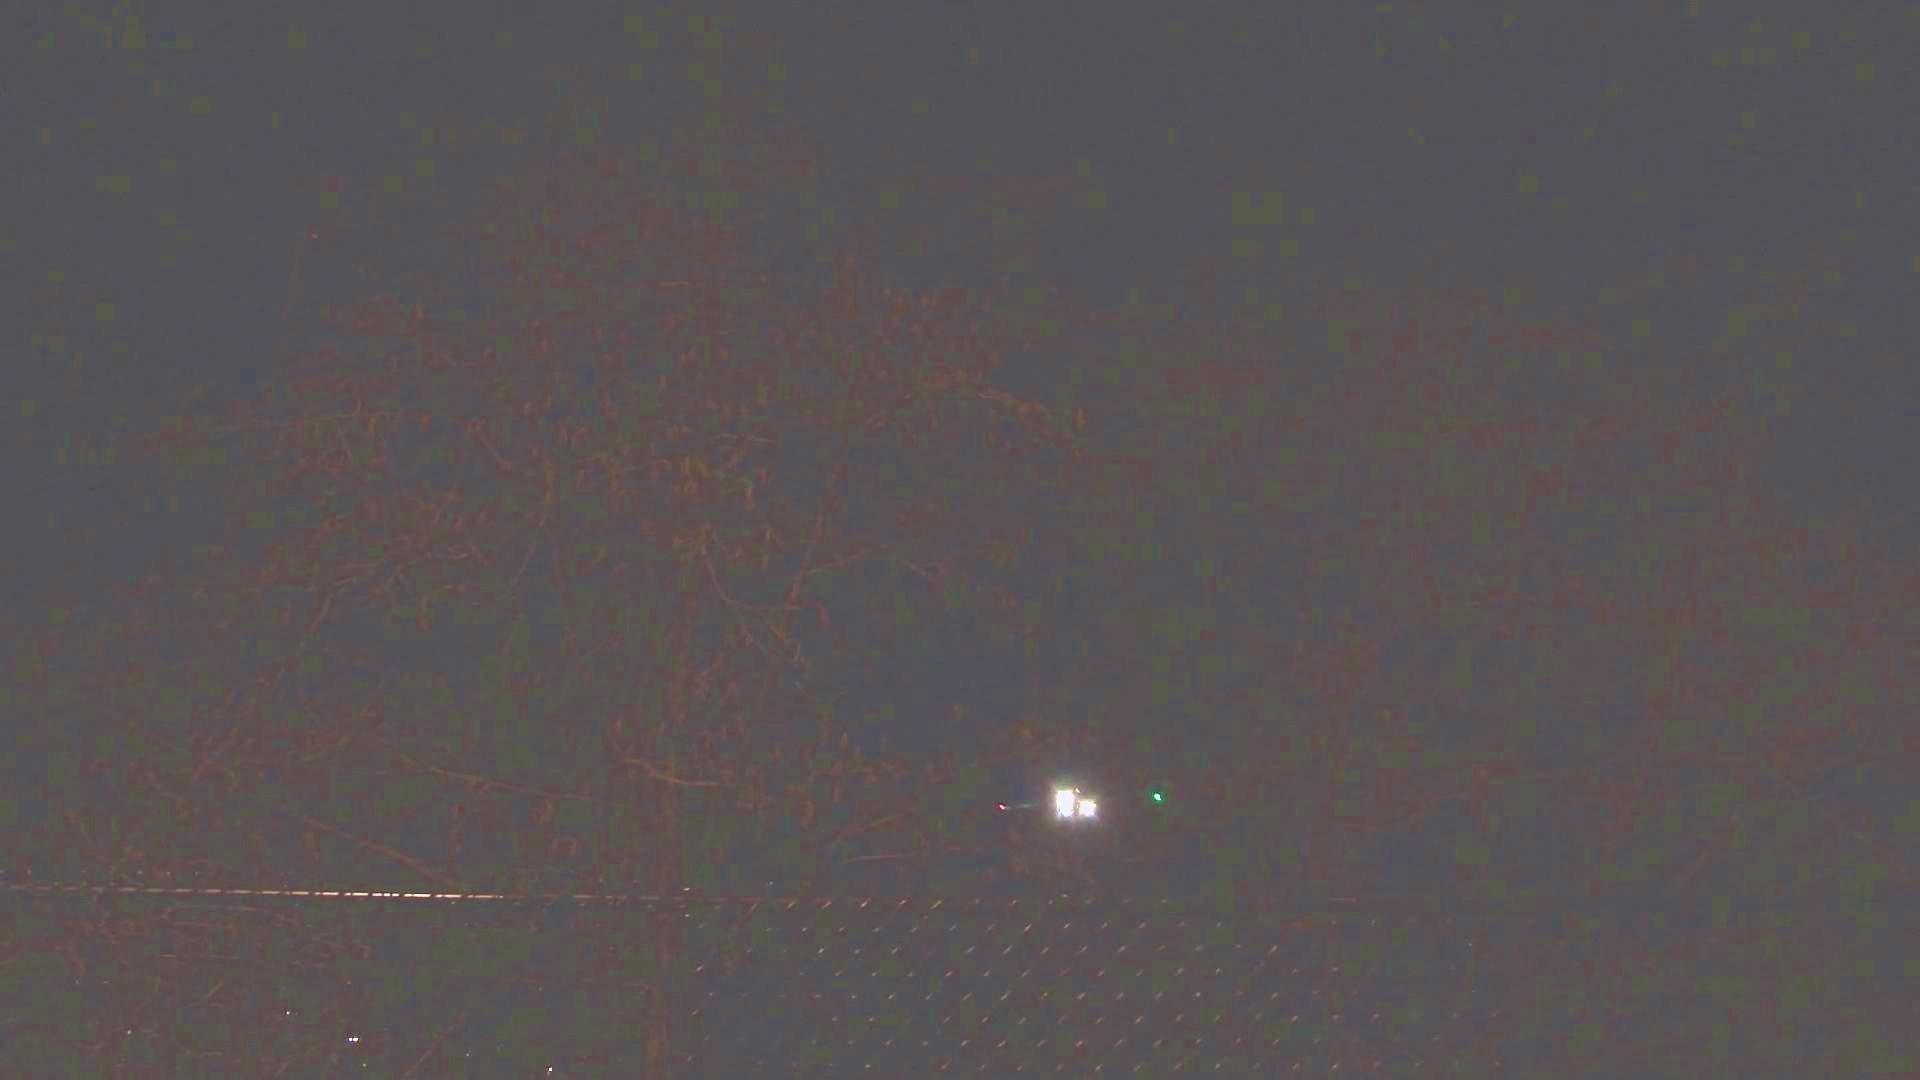Plane: (953, 771, 1180, 835)
